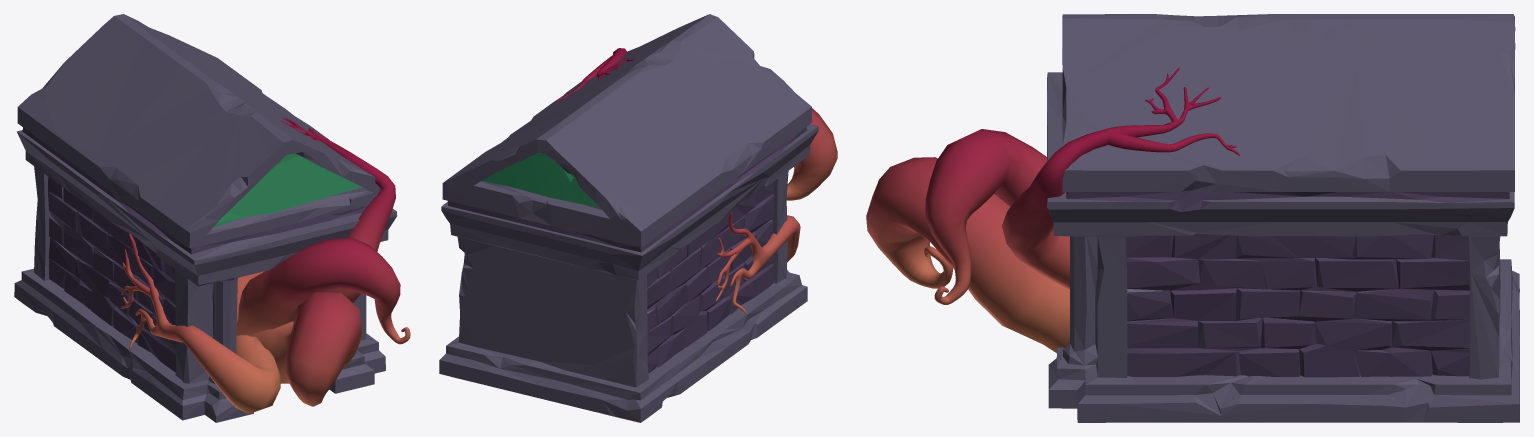
Rendered from enemy_crypt.fbx.
3 views of the same model, side by side, from view 1: azimuth 30°, elevation 25°; view 2: azimuth 150°, elevation 25°; view 3: azimuth 270°, elevation 25° (orthographic). The views are drawn at different scales.
Parts seen in each view (by area): view 1: enemy_crypt; view 2: enemy_crypt; view 3: enemy_crypt.
Boxes of the visible parts, x1=… form: enemy_crypt: x1=14, y1=14, x2=410, y2=422; enemy_crypt: x1=439, y1=14, x2=837, y2=422; enemy_crypt: x1=866, y1=14, x2=1519, y2=422.
Bounding box in the file's own units: 442 × 554 × 931.
